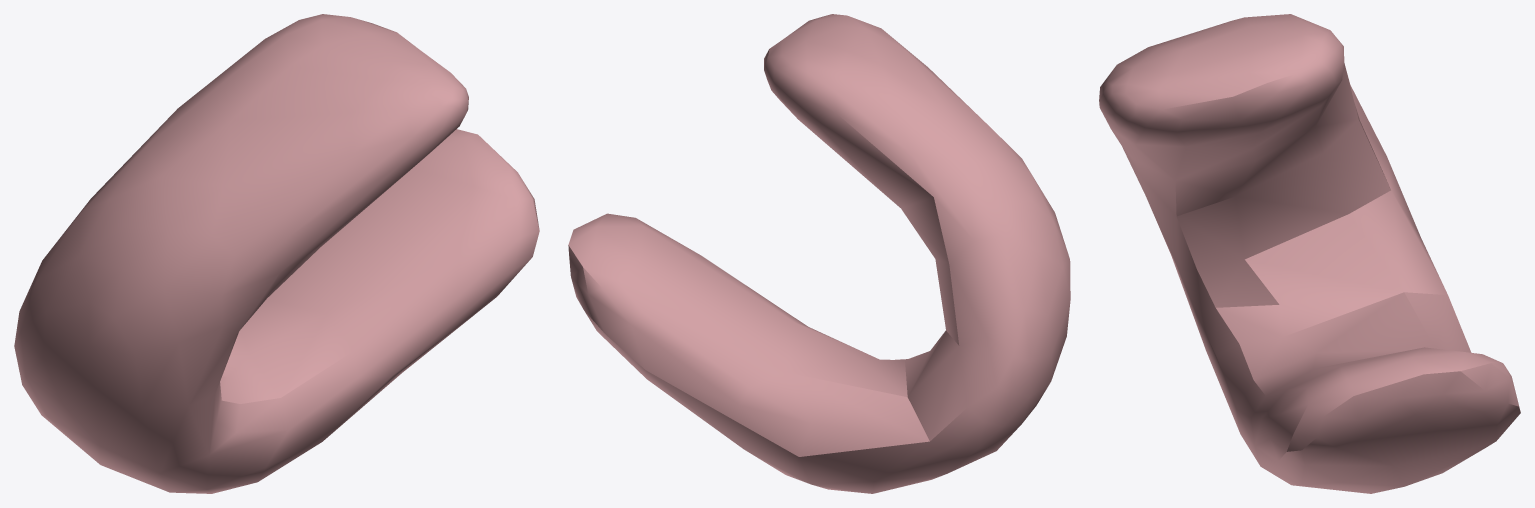
File: fma49067_mm2203m.glb
3 views of the same model, side by side, from view 1: azimuth 30°, elevation 25°; view 2: azimuth 150°, elevation 25°; view 3: azimuth 270°, elevation 25° (orthographic). The views are drawn at different scales.
Parts seen in each view (by area): view 1: FMA49067_MM2203M; view 2: FMA49067_MM2203M; view 3: FMA49067_MM2203M.
Boxes of the visible parts, x1,y1,x2,y2 form: FMA49067_MM2203M: (14, 14, 539, 493); FMA49067_MM2203M: (568, 14, 1070, 493); FMA49067_MM2203M: (1099, 14, 1520, 493).
Size of the model in its own units: 0.00422 by 0.00357 by 0.0028.
